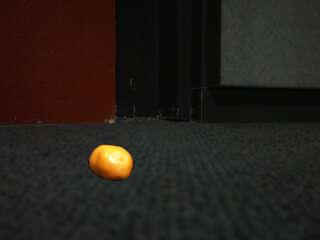Potato: (88, 144, 135, 182)
